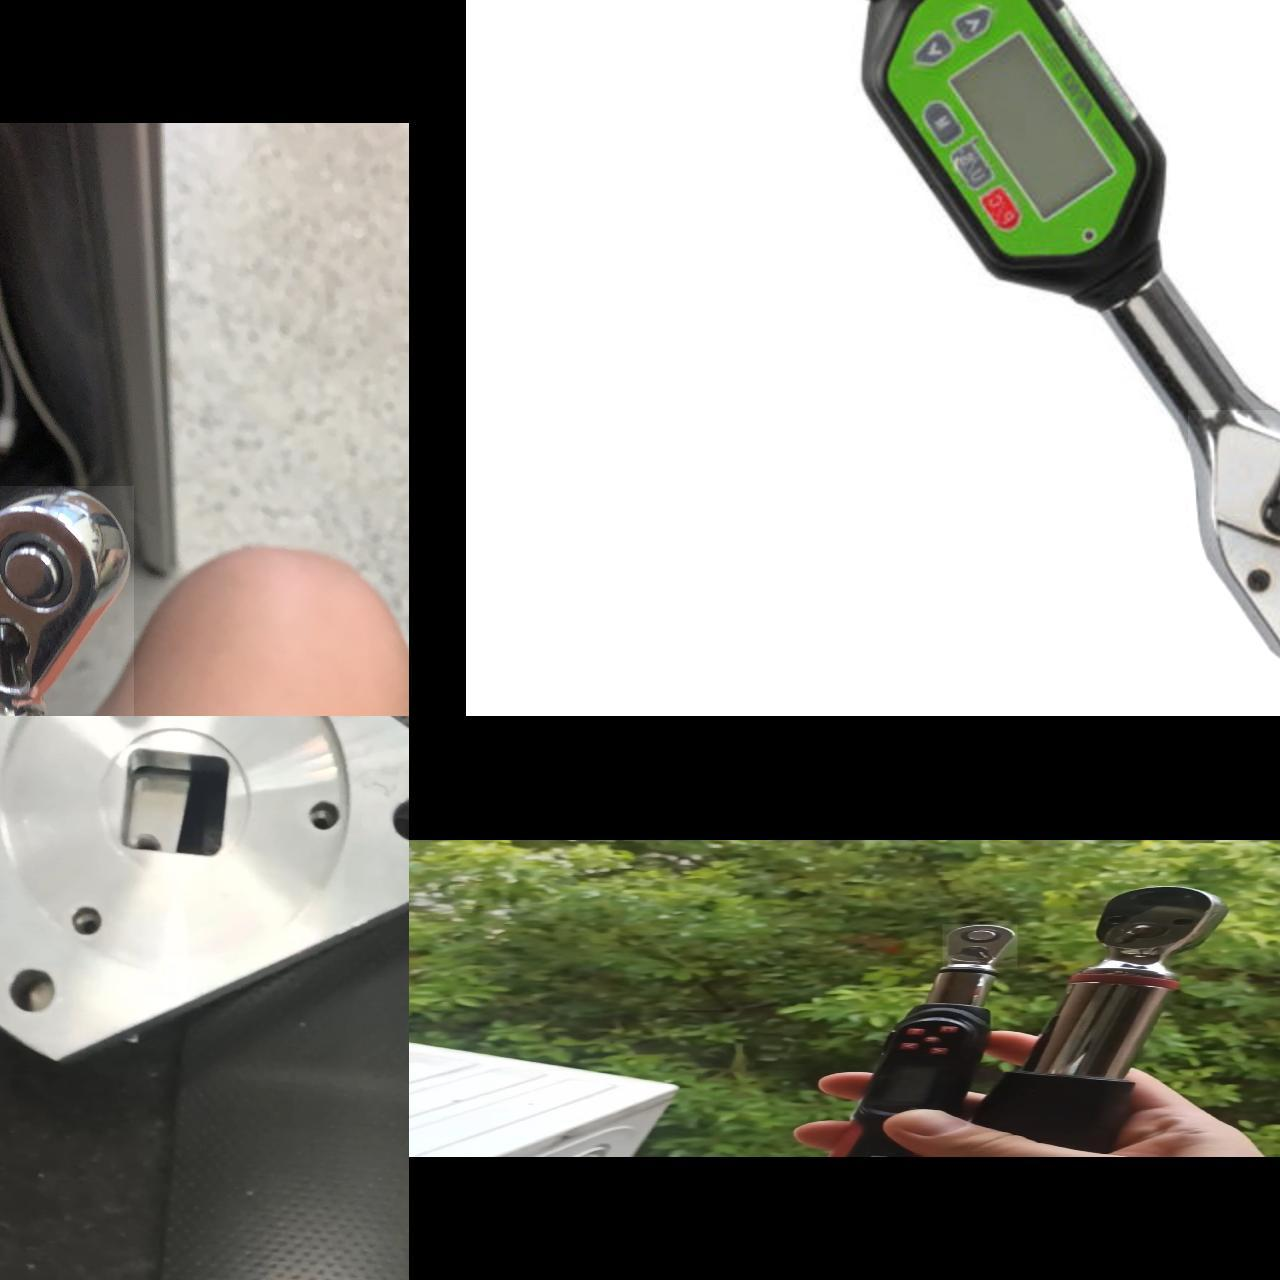Tool: (0, 485, 134, 716), (1189, 409, 1280, 675), (1082, 885, 1226, 975), (942, 922, 1017, 969)
